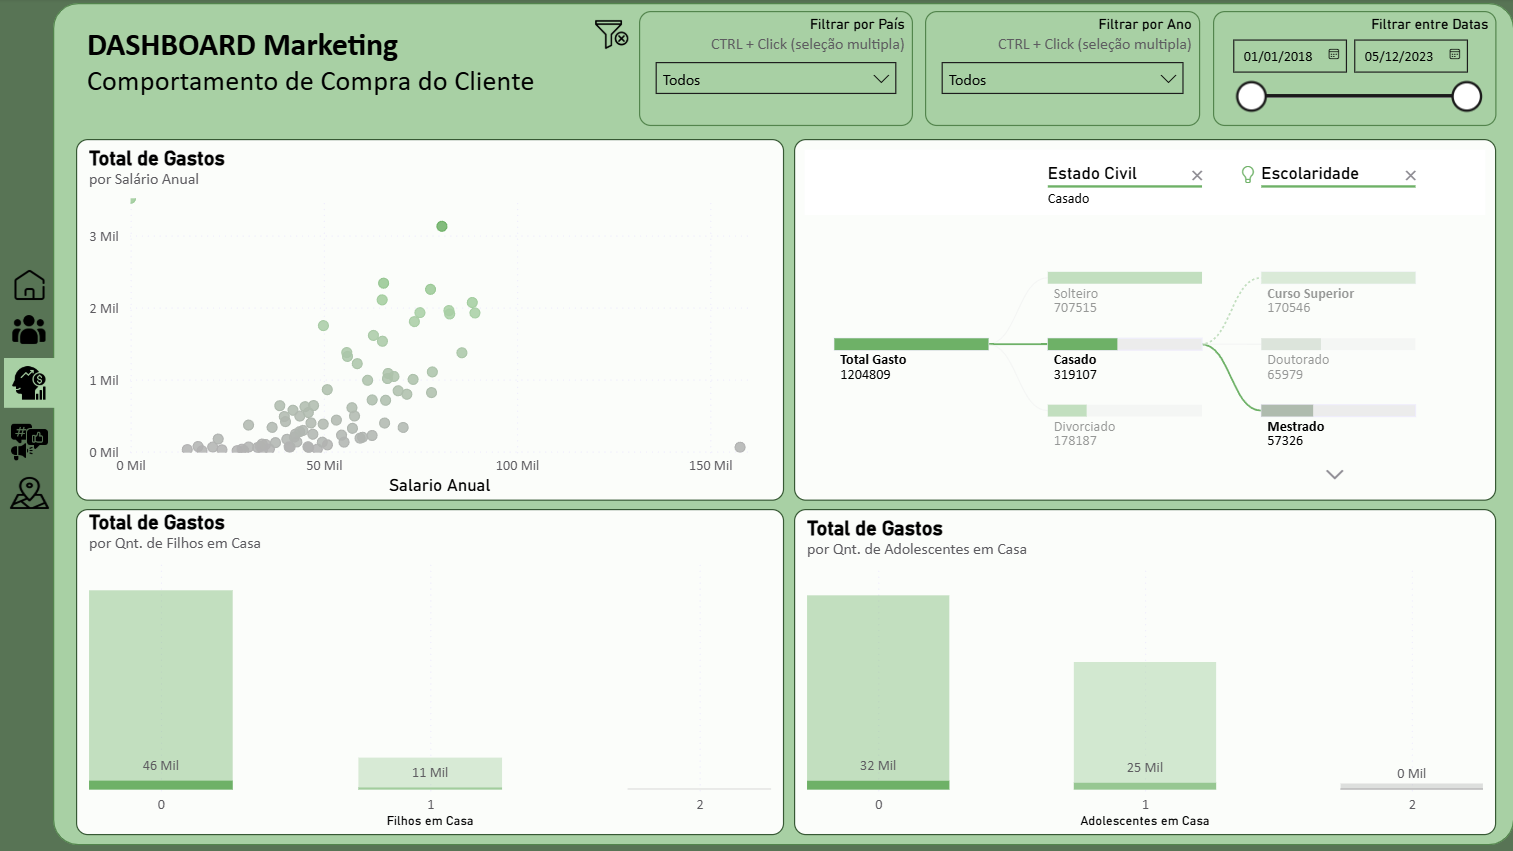

This screenshot's page, from the dashboard's own definition file:
{"tool":"powerbi","page":{"name":"Visão Comportamento","canvas":[1280,720],"ordinal":2},"visuals":[{"type":"group","id":"g1","title":"Grupo 1","box":[48.2,4.5,1231.8,710],"z":0},{"type":"shape","box":[48.2,4.5,1231.8,710],"z":0,"group":"g1"},{"type":"textbox","box":[71.7,17.6,390,73.6],"z":1000,"group":"g1"},{"type":"scatterChart","title":"Total de Gastos","fields":{"X":["Dados_Marketing.Salario Anual"],"Y":["Dados_Marketing.Total_Gasto"]},"box":[67.3,119.1,597.3,305.5],"z":1000},{"type":"slicer","title":"Filtrar por Ano","fields":{"Values":["Dados_Marketing.Data Cadastro.Variation.Hierarquia de datas.Ano"]},"box":[783.7,10.9,231.8,97.3],"z":2000,"group":"g1"},{"type":"clusteredColumnChart","title":"Total de Gastos","fields":{"Category":["Dados_Marketing.Filhos em Casa"],"Y":["Dados_Marketing.Total_Gasto"]},"box":[67.3,430.9,597.3,274.5],"z":2000},{"type":"slicer","title":"Filtrar por País","fields":{"Values":["Dados_Marketing.Pais"]},"box":[541.8,10.9,230.9,97.3],"z":3000,"group":"g1"},{"type":"image","box":[7,398.9,42.7,37.3],"z":3000,"group":"g3"},{"type":"clusteredColumnChart","title":"Total de Gastos","fields":{"Y":["Dados_Marketing.Total_Gasto"],"Category":["Dados_Marketing.Adolescentes em Casa"]},"box":[672.7,430.9,591.8,274.5],"z":3000},{"type":"slicer","title":"Filtrar entre Datas","fields":{"Values":["Dados_Marketing.Data Cadastro"]},"box":[1026.4,10.9,239.1,97.3],"z":4000,"group":"g1"},{"type":"decompositionTreeVisual","fields":{"Analyze":["Dados_Marketing.Total_Gasto"],"ExplainBy":["Dados_Marketing.Estado Civil","Dados_Marketing.Escolaridade"]},"box":[672.7,119.1,591.8,305.5],"z":4000},{"type":"image","box":[7,260.7,42.7,38.2],"z":4000,"group":"g3"},{"type":"group","id":"g2","title":"Grupo 5","box":[7,223.6,42.7,212.7],"z":5000},{"type":"group","id":"g3","title":"Grupo 2","box":[7,260.7,42.7,175.5],"z":5000,"group":"g2"},{"type":"image","box":[7,303.4,42.7,41.8],"z":5000,"group":"g3"},{"type":"image","box":[498.9,11.9,39.8,37.8],"z":6000},{"type":"image","box":[7,223.6,42.6,37.2],"z":6000,"group":"g2"},{"type":"image","box":[7,349.8,42.7,48.2],"z":6000,"group":"g3"}]}

Visuals, with their boxes in screenshot pixels (x1, y1, x2, y2):
"Grupo 1" group: x1=52 y1=5 x2=1488 y2=833
shape: x1=52 y1=5 x2=1488 y2=833
textbox: x1=80 y1=21 x2=534 y2=106
"Total de Gastos" scatterChart: x1=75 y1=139 x2=771 y2=495
"Filtrar por Ano" slicer: x1=910 y1=13 x2=1180 y2=126
"Total de Gastos" clusteredColumnChart: x1=75 y1=502 x2=771 y2=822
"Filtrar por País" slicer: x1=628 y1=13 x2=897 y2=126
image: x1=4 y1=465 x2=54 y2=508
"Total de Gastos" clusteredColumnChart: x1=780 y1=502 x2=1470 y2=822
"Filtrar entre Datas" slicer: x1=1193 y1=13 x2=1471 y2=126
decompositionTreeVisual - Dados_Marketing.Total_Gasto x Dados_Marketing.Estado Civil: x1=780 y1=139 x2=1470 y2=495
image: x1=4 y1=304 x2=54 y2=348
"Grupo 5" group: x1=4 y1=261 x2=54 y2=509
"Grupo 2" group: x1=4 y1=304 x2=54 y2=508
image: x1=4 y1=354 x2=54 y2=402
image: x1=578 y1=14 x2=624 y2=58
image: x1=4 y1=261 x2=54 y2=304
image: x1=4 y1=408 x2=54 y2=464
